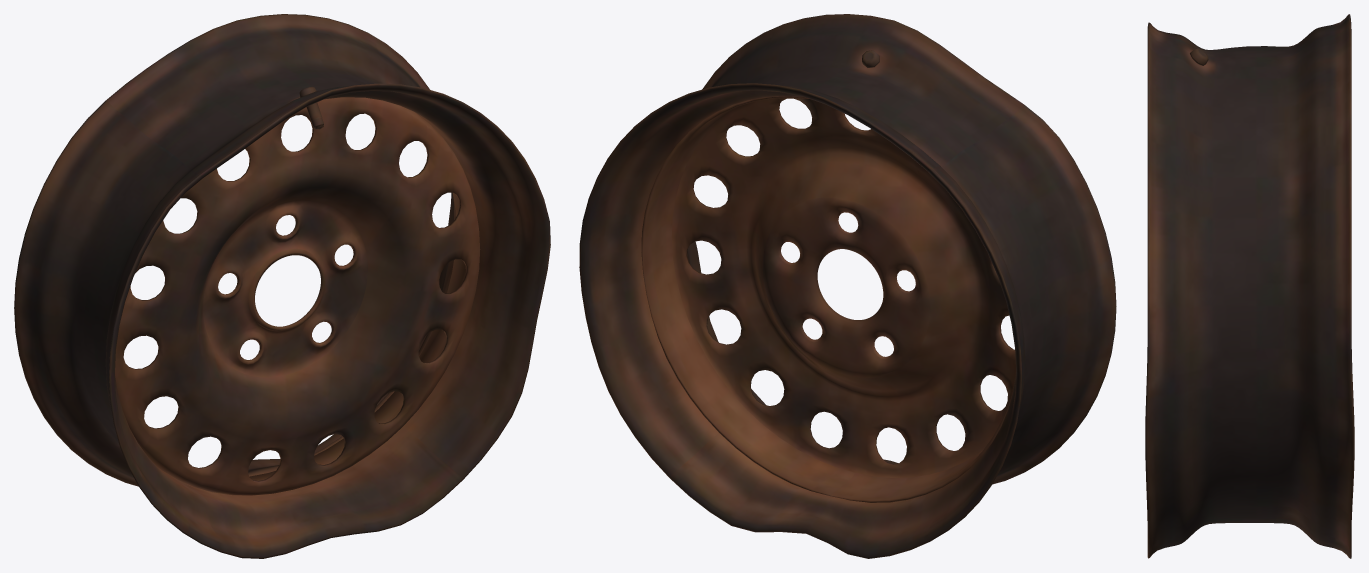
The model's file is rusted_wheel_rim_01.gltf.
3 renders of one model, left to right at view 1: azimuth 30°, elevation 25°; view 2: azimuth 150°, elevation 25°; view 3: azimuth 270°, elevation 25°, orthographic. The views are drawn at different scales.
Parts seen in each view (by area): view 1: rusted_wheel_rim_01; view 2: rusted_wheel_rim_01; view 3: rusted_wheel_rim_01.
Boxes of the visible parts, left/top/right/bottom form: rusted_wheel_rim_01: left=14, top=14, right=550, bottom=558; rusted_wheel_rim_01: left=579, top=14, right=1116, bottom=558; rusted_wheel_rim_01: left=1145, top=14, right=1354, bottom=558.
Size of the model in its own units: 0.4029 by 0.3955 by 0.1541.
Materials: 1 (1 with a texture image).
